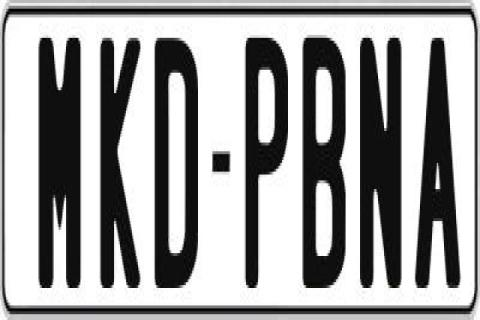A: (416, 38, 464, 306)
B: (298, 35, 342, 288)
D: (152, 29, 202, 291)
K: (98, 35, 140, 299)
M: (39, 35, 83, 291)
N: (360, 38, 408, 294)
P: (246, 35, 290, 297)
